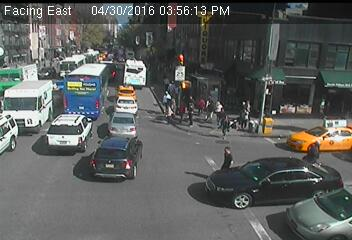neg: (112, 82, 131, 107), (61, 93, 80, 117), (24, 63, 40, 85), (59, 61, 73, 80), (104, 112, 118, 131)
pos: (216, 144, 240, 177), (217, 112, 239, 141), (308, 138, 329, 166), (183, 102, 201, 125), (161, 102, 178, 124), (238, 107, 254, 128), (165, 78, 181, 99), (193, 96, 208, 116)
